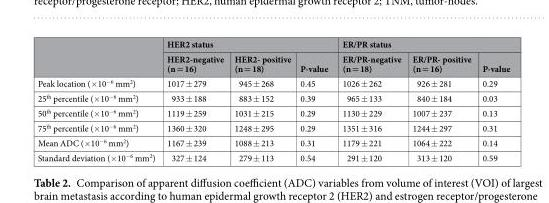table: (36, 37, 509, 163)
table column: (36, 37, 160, 163), (334, 37, 406, 163), (406, 37, 476, 163), (160, 37, 228, 163), (228, 37, 295, 163), (295, 37, 334, 163), (476, 37, 509, 163)
table column header: (36, 37, 509, 75)
table row: (36, 50, 509, 75), (36, 75, 509, 90), (36, 90, 509, 105), (36, 105, 509, 120), (36, 120, 509, 135), (36, 135, 509, 149), (36, 149, 509, 163), (36, 37, 509, 50)
table spanning cell: (334, 37, 509, 50), (160, 37, 334, 50)
